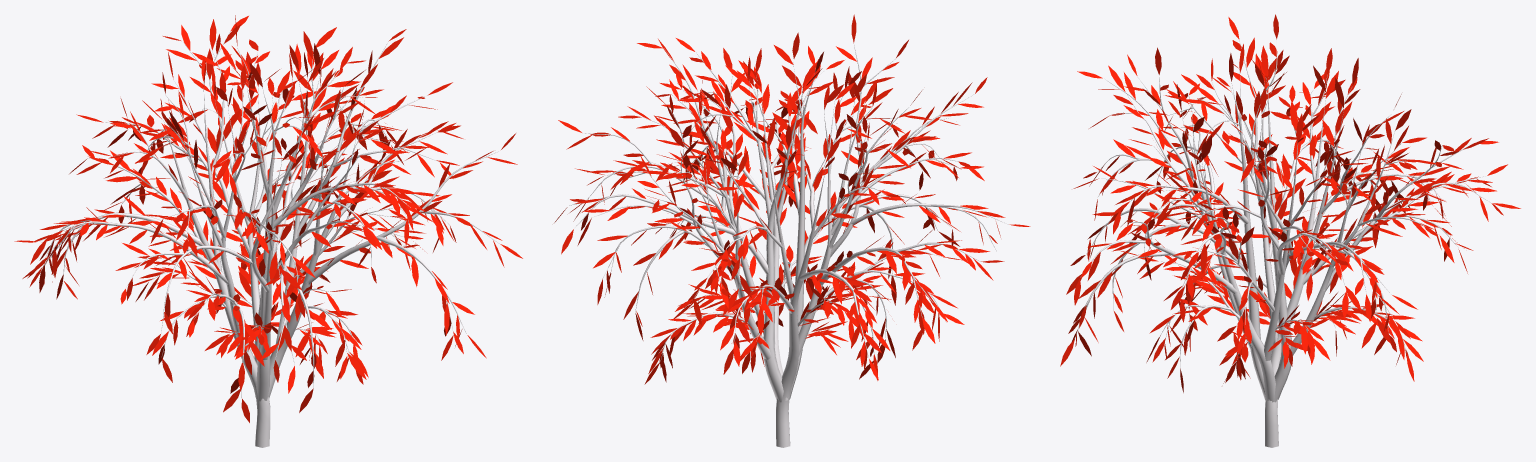
The model's file is tree3.glb.
The picture shows the model from 3 angles, left to right: view 1: azimuth 30°, elevation 25°; view 2: azimuth 150°, elevation 25°; view 3: azimuth 270°, elevation 25°; orthographic projection. The views are drawn at different scales.
Parts seen in each view (by area): view 1: leaves.001, tree.001; view 2: leaves.001, tree.001; view 3: leaves.001, tree.001.
Boxes of the visible parts, bbox=[...] form: leaves.001: bbox=[14, 15, 522, 422]; tree.001: bbox=[39, 32, 499, 447]; leaves.001: bbox=[554, 14, 1030, 384]; tree.001: bbox=[569, 44, 1008, 447]; leaves.001: bbox=[1060, 14, 1520, 392]; tree.001: bbox=[1075, 40, 1490, 447].
Size of the model in its own units: 6.29 by 5.43 by 5.75.
